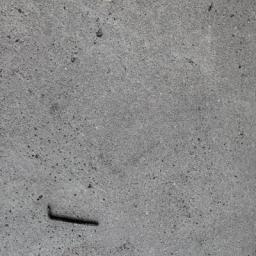FOD: (45, 204, 104, 232)
